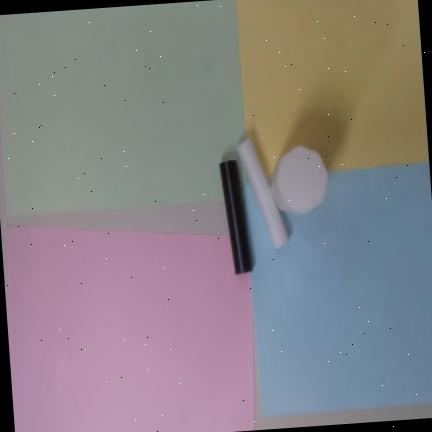Cilindro: (236, 139, 290, 249), (218, 160, 253, 273)
Prisma_hexagonal: (270, 145, 328, 214)
